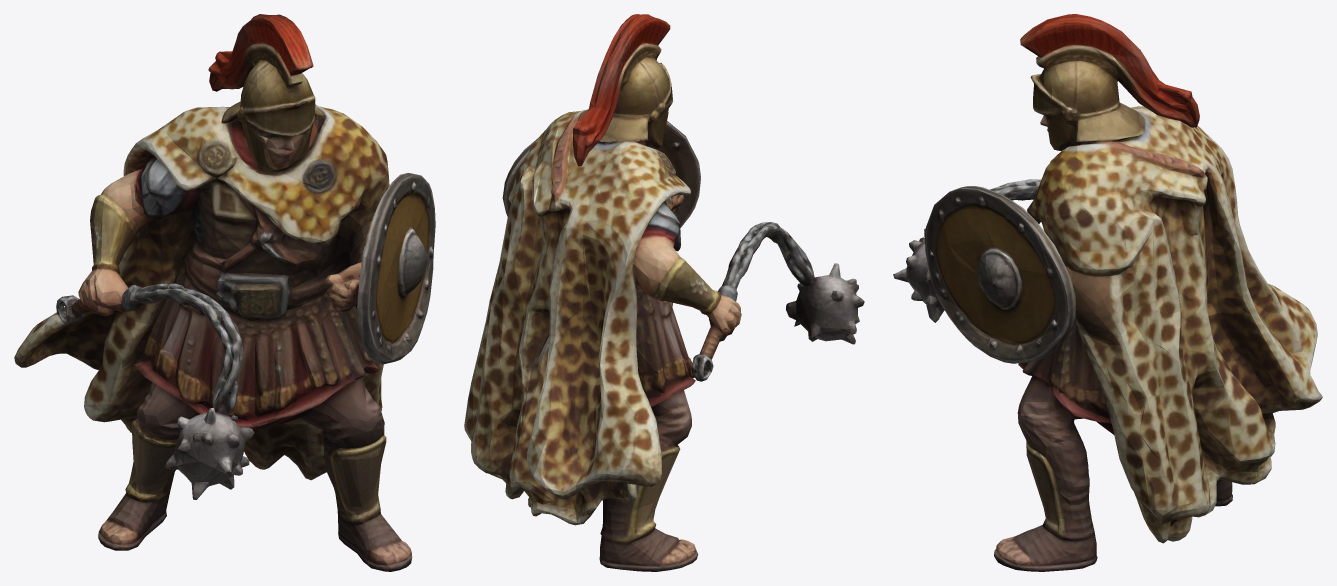
File: bucklerFlailer.glb
3 renders of one model, left to right at view 1: azimuth 30°, elevation 25°; view 2: azimuth 150°, elevation 25°; view 3: azimuth 270°, elevation 25°, orthographic. The views are drawn at different scales.
Parts seen in each view (by area): view 1: world; view 2: world; view 3: world.
Boxes of the visible parts, bbox=[...] form: world: bbox=[14, 14, 435, 571]; world: bbox=[464, 14, 864, 571]; world: bbox=[893, 14, 1322, 571].
Size of the model in its own units: 0.6437 by 0.9991 by 0.7666.
Materials: 1 (1 with a texture image).
